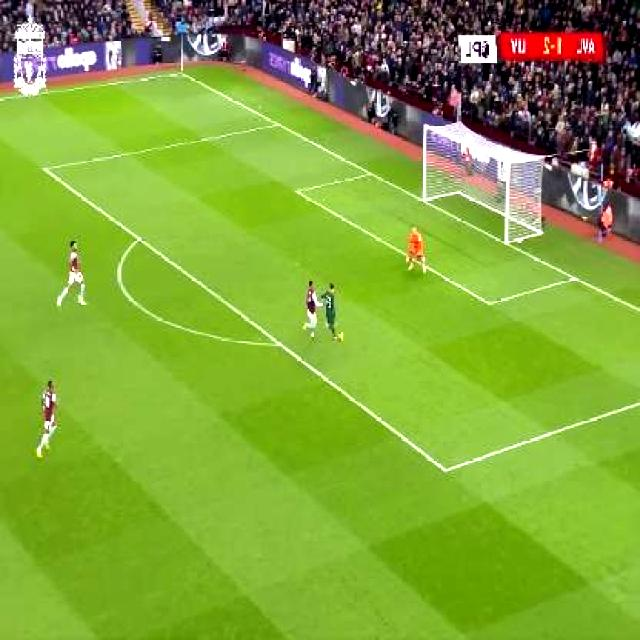bigarea_bottom_inner: (436, 454, 458, 484)
bigarea_top_inner: (37, 157, 55, 180)
bigarea_top_outter: (271, 114, 286, 132)
bottom_arc_area_intersection: (269, 330, 291, 356)
corner: (171, 65, 191, 80)
smallarea_bottom_inner: (480, 288, 502, 317)
smallarea_bottom_outter: (564, 265, 584, 289)
smallarea_top_inner: (289, 178, 308, 202)
smallarea_top_outter: (363, 162, 380, 183)
top_arc_area_intersection: (132, 226, 148, 248)
